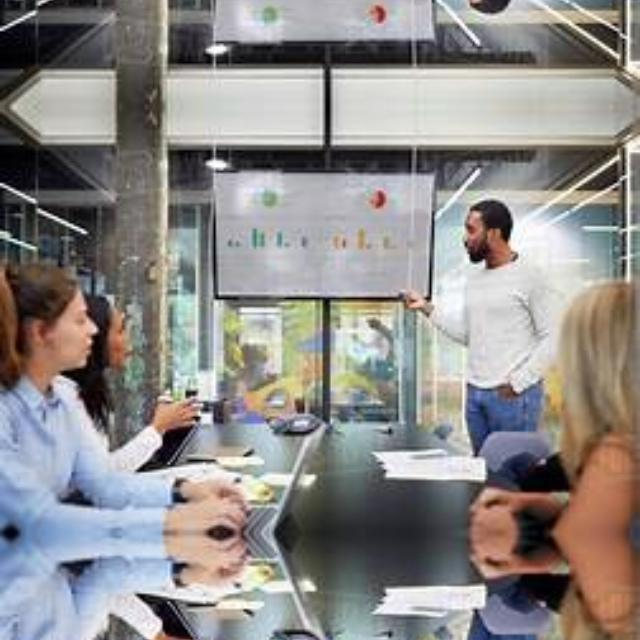person: (412, 190, 568, 450), (0, 254, 94, 473), (0, 592, 94, 640), (412, 615, 567, 640), (412, 0, 567, 21)
